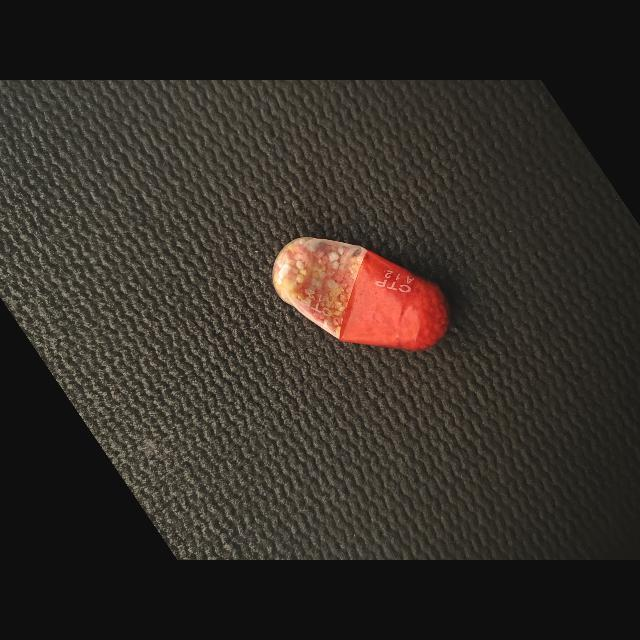Defective Capsule: (272, 237, 449, 351)
